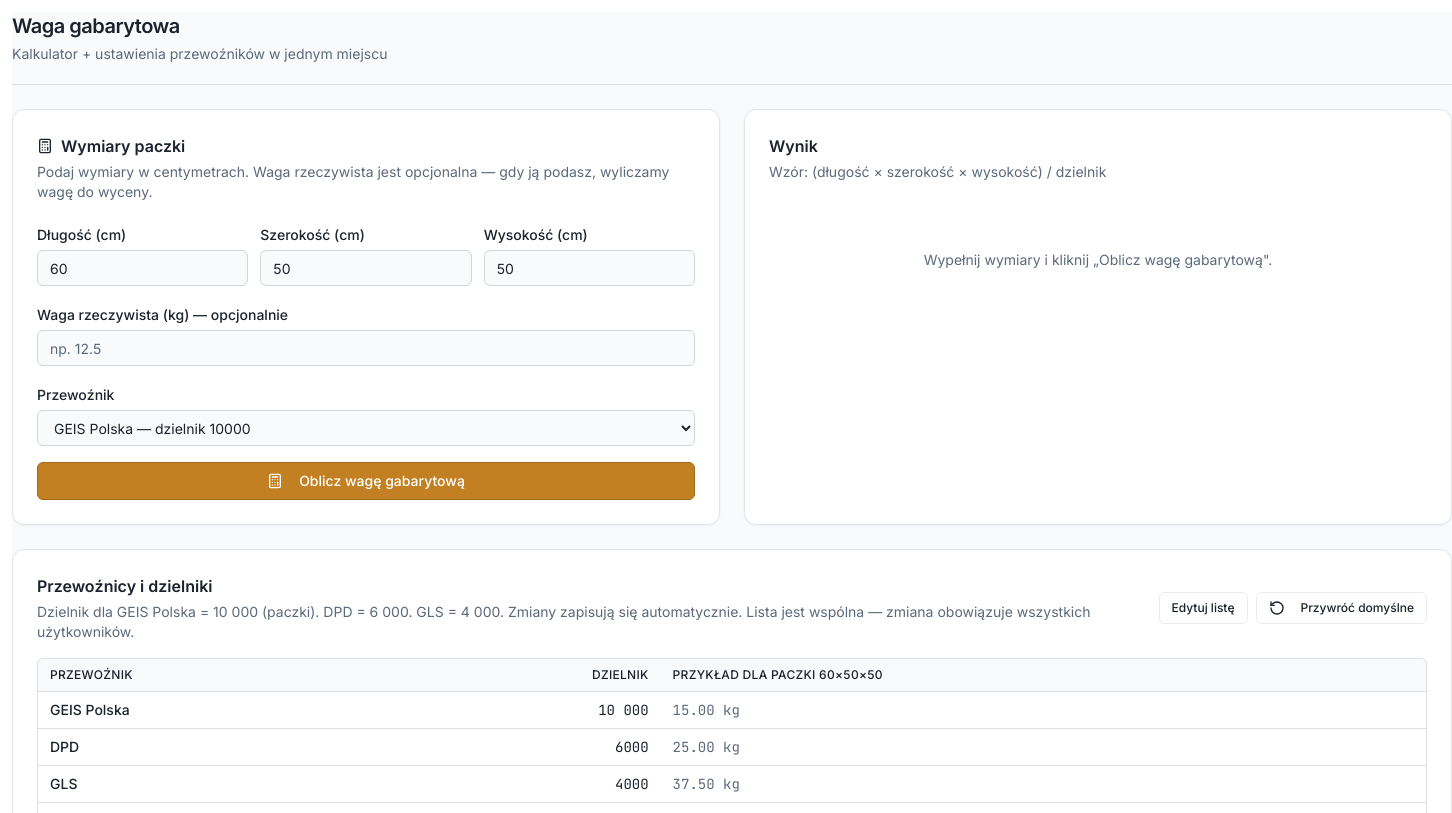
Scenario: widok wagi gabarytowej — kalkulator wolumetryczny › liczy wagę po kliknięciu i pokazuje rozbicie
This screenshot has width=1452, height=813.
Expected: the button with test id "button-edycja-przewoznikow" is shown, [1158, 592, 1248, 624]
Click the button with test id "button-oblicz" at [366, 481], box [37, 462, 695, 500]
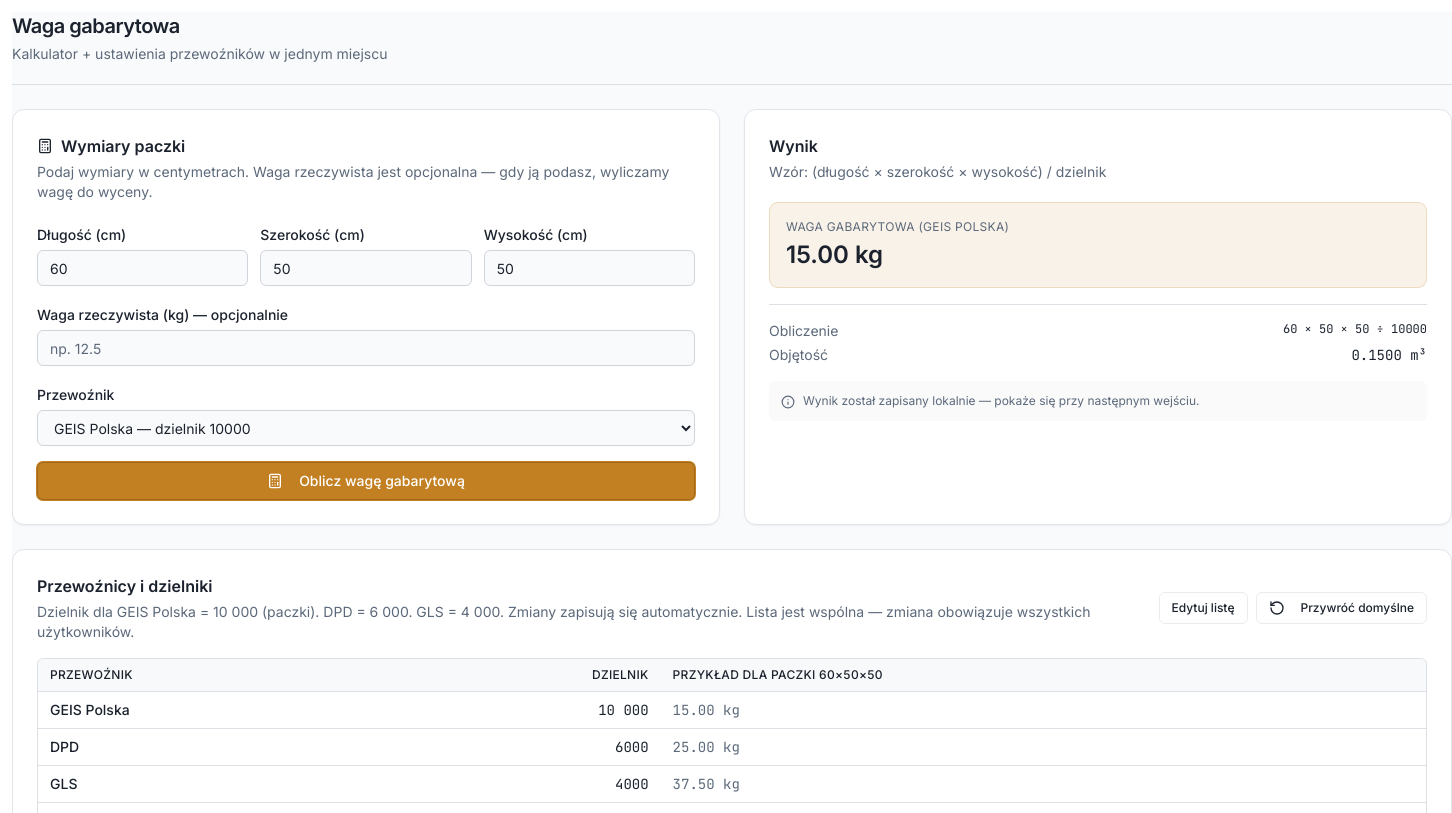
Expected: the text with test id "text-wynik-waga" reads "15.00 kg", [786, 240, 883, 269]
Expected: the text "60 × 50 × 50 ÷ 10000" is shown, [1283, 321, 1427, 341]
Expected: the text "0.1500 m³" is shown, [1351, 345, 1427, 365]
